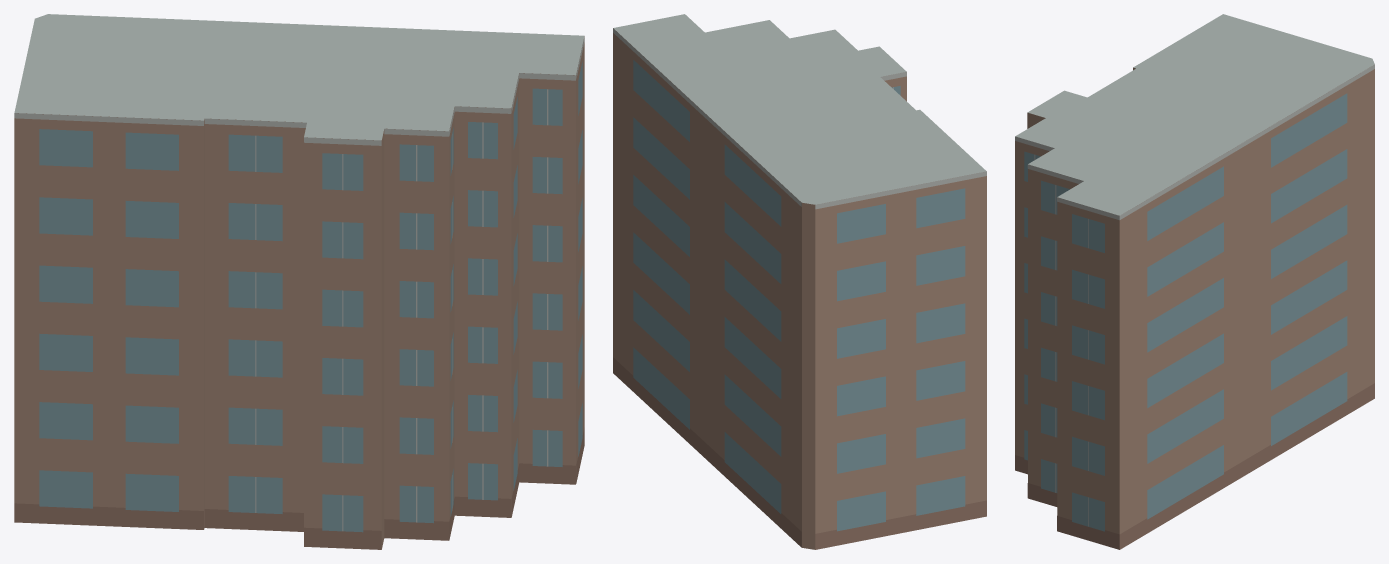
File: survey-upis-32915099.glb
The picture shows the model from 3 angles, left to right: view 1: azimuth 30°, elevation 25°; view 2: azimuth 150°, elevation 25°; view 3: azimuth 270°, elevation 25°; orthographic projection. The views are drawn at different scales.
Visible parts, largest first — view 1: survey-upis-32915099.tmp; view 2: survey-upis-32915099.tmp; view 3: survey-upis-32915099.tmp.
Boxes of the visible parts, left/top/right/bottom form: survey-upis-32915099.tmp: left=14, top=14, right=584, bottom=549; survey-upis-32915099.tmp: left=613, top=14, right=986, bottom=549; survey-upis-32915099.tmp: left=1015, top=14, right=1374, bottom=549.
Bounding box in the file's own units: 23.58 × 18.2 × 17.77.
